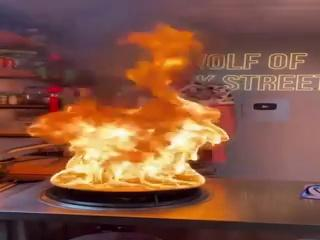Fire: (30, 56, 208, 195)
